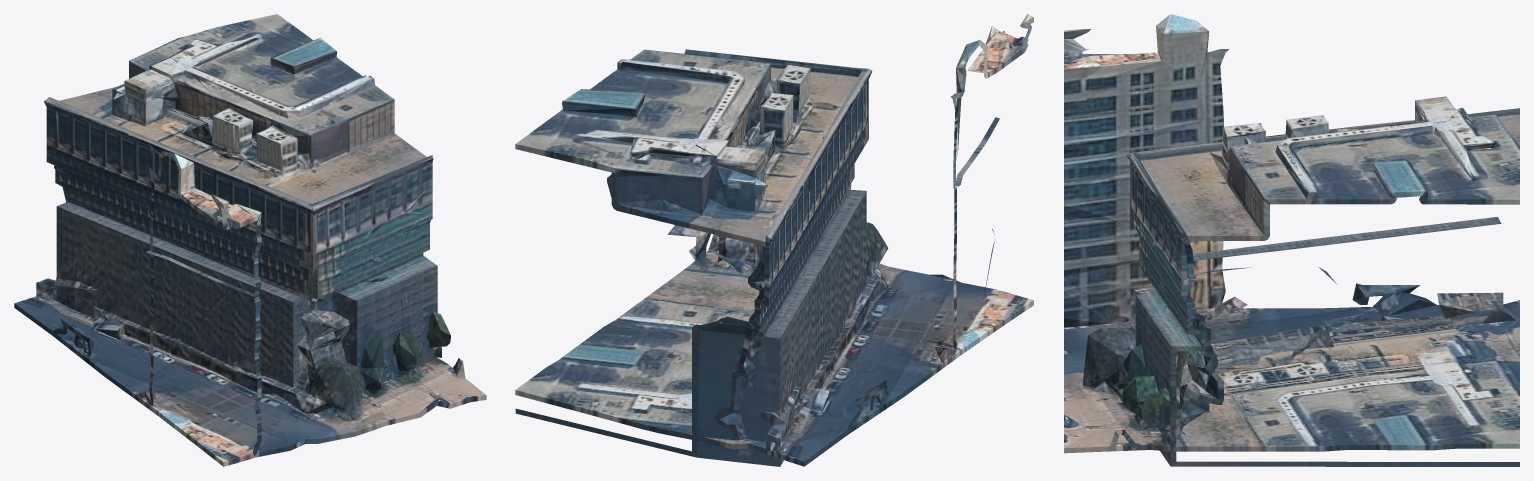
File: chunk_7_-5.glb
3 views of the same model, side by side, from view 1: azimuth 30°, elevation 25°; view 2: azimuth 150°, elevation 25°; view 3: azimuth 270°, elevation 25° (orthographic). The views are drawn at different scales.
Parts seen in each view (by area): view 1: hero-chunk; view 2: hero-chunk; view 3: hero-chunk.
Part boxes in pixels (x1,y1,x2,y2): hero-chunk: [14, 14, 486, 466]; hero-chunk: [515, 14, 1033, 466]; hero-chunk: [1064, 14, 1519, 466].
Bounding box in the file's own units: 56.65 × 57.86 × 76.33.
Materials: 3 (3 with a texture image).
